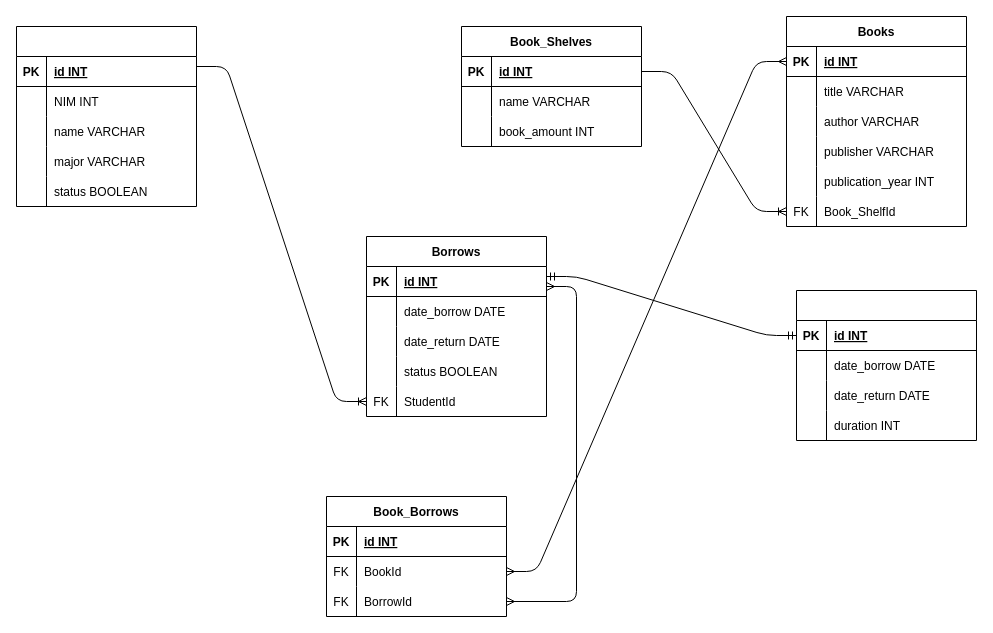
Image size: 993x633. Some labels were removed from this diagram. The shapes that lost their labels are listed below. From the top down, each one's box as (x1, y1, x2, y2) in pixels, then its label:
(16, 26, 196, 206): Students
(796, 290, 976, 440): History_Borrows
